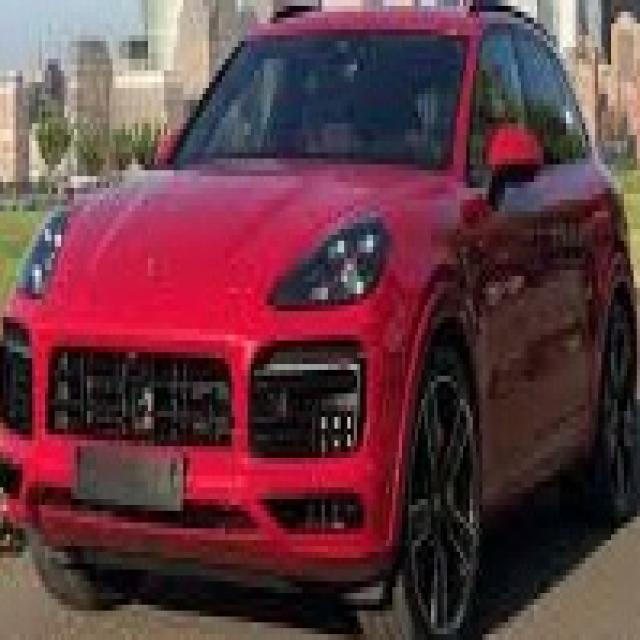red: (4, 16, 640, 579)
